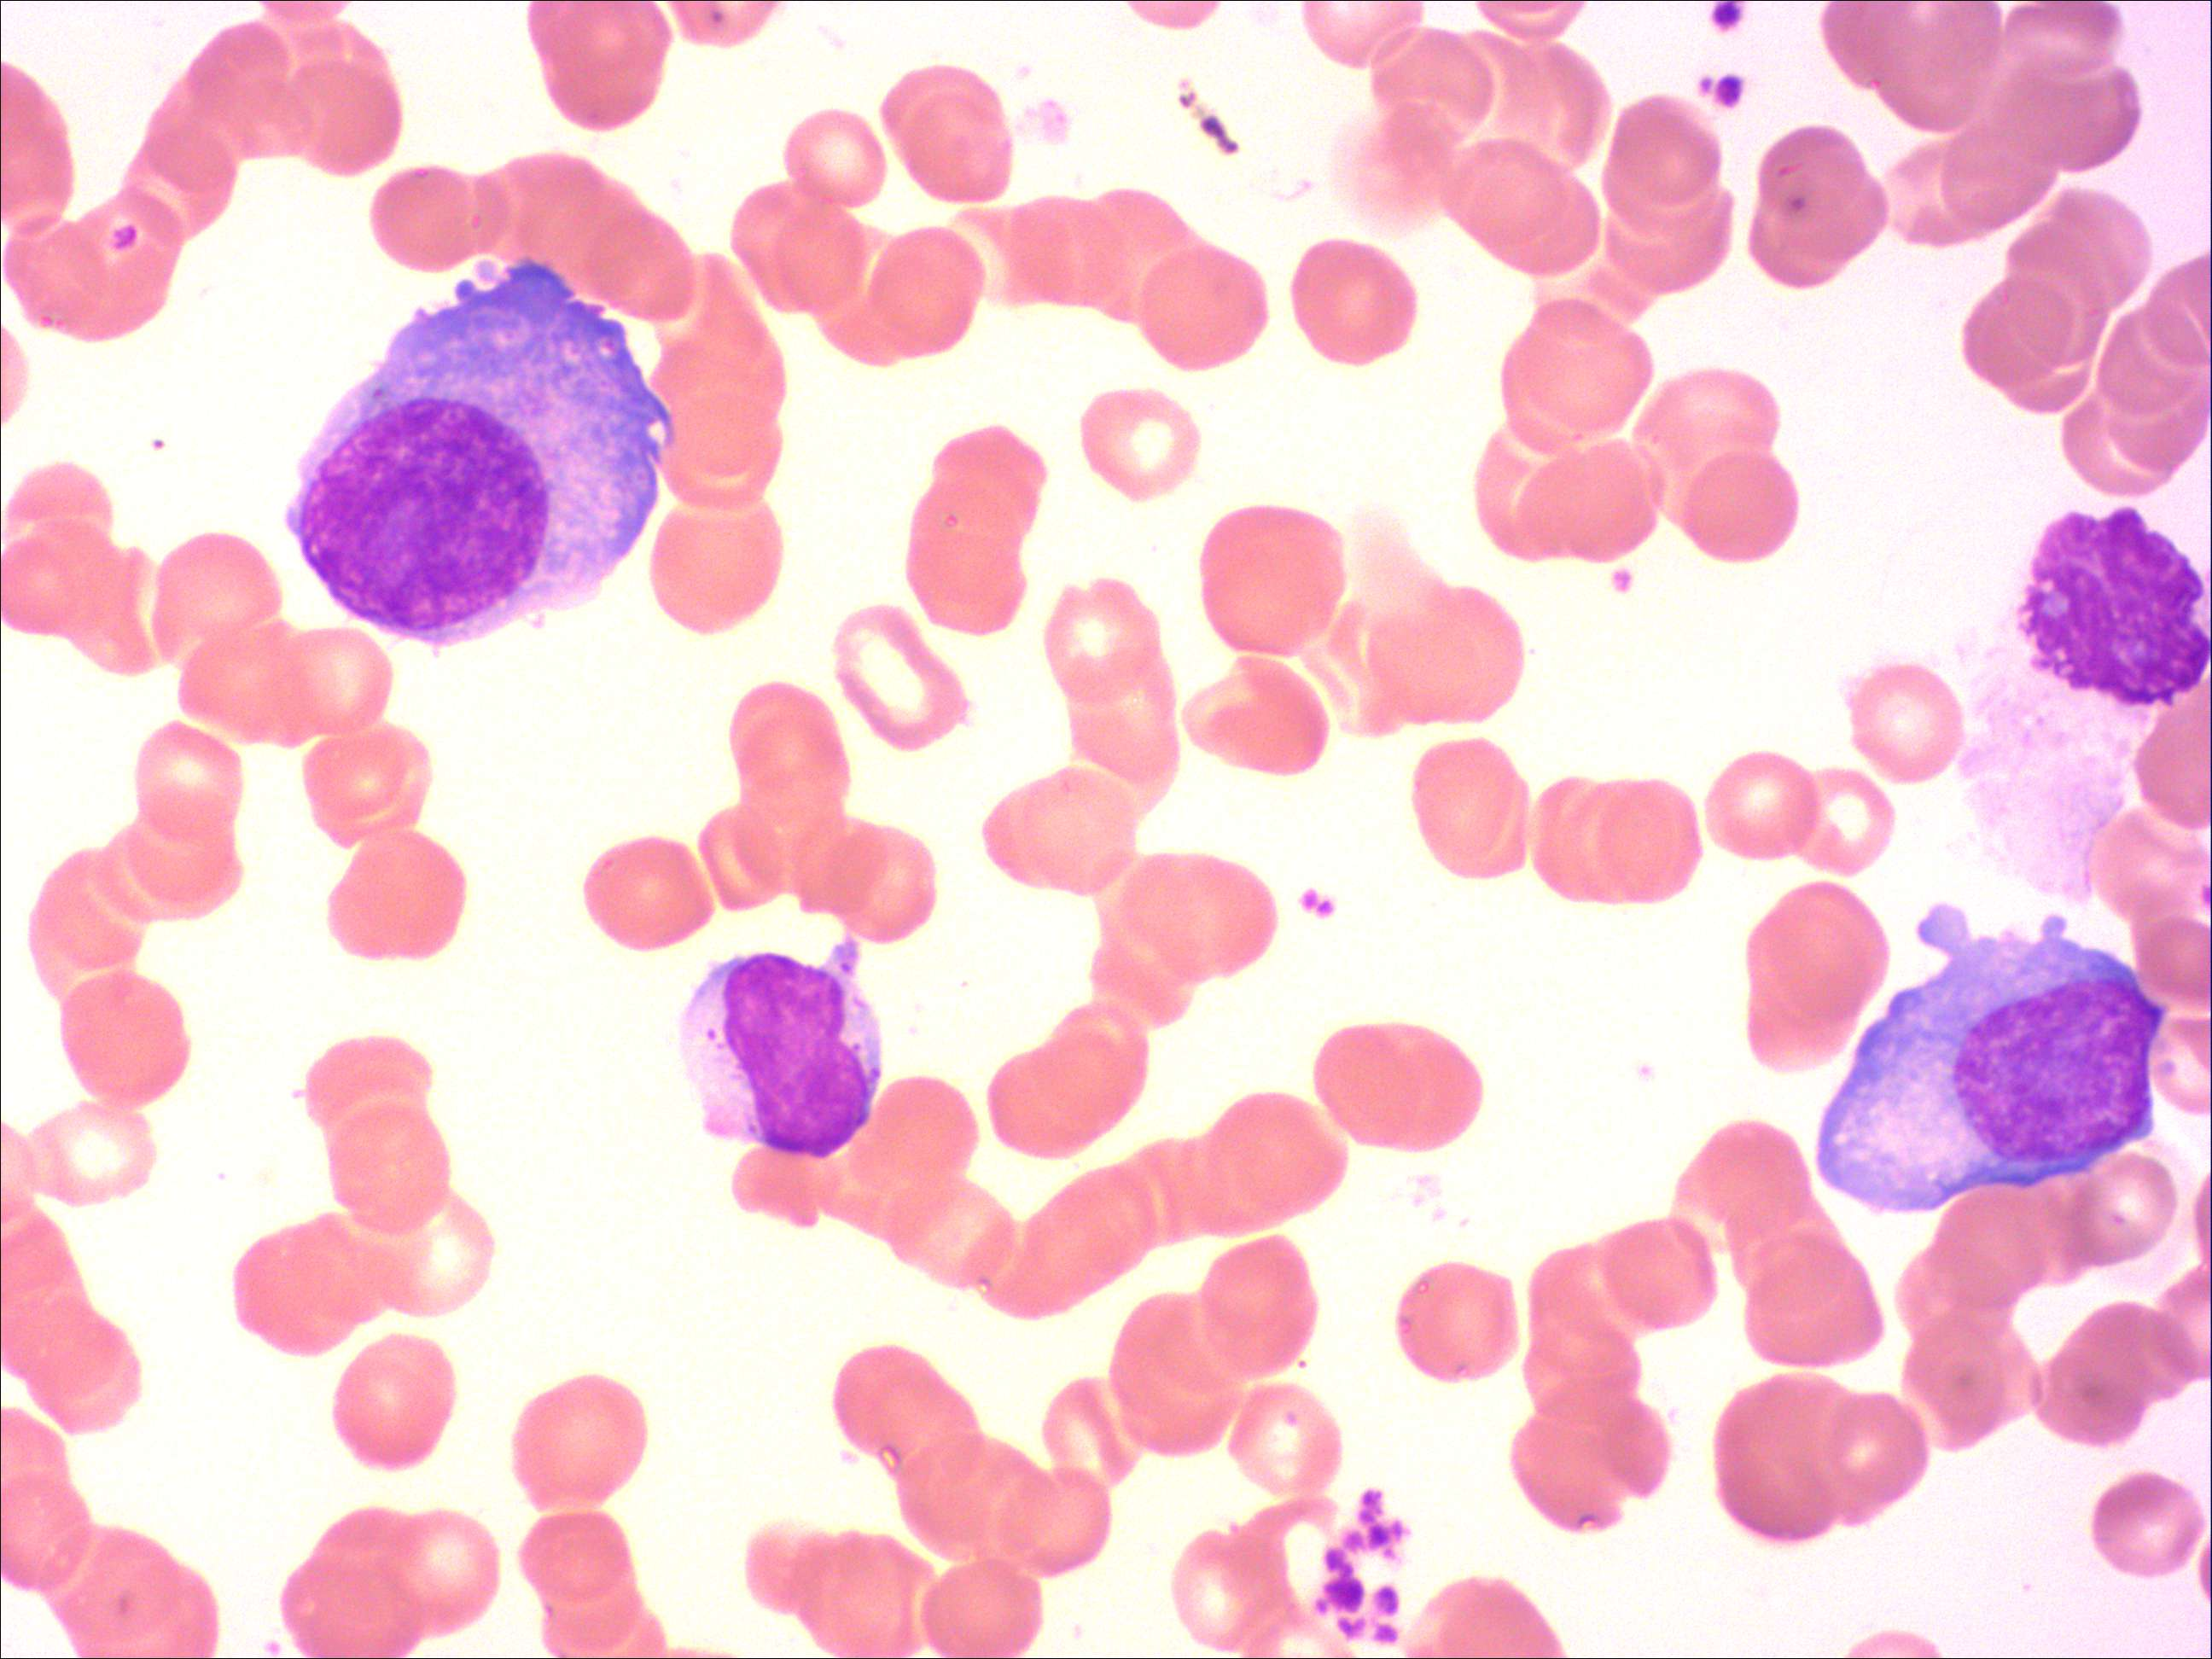32: (676, 929, 887, 1166)
51: (279, 251, 681, 657), (1810, 897, 2170, 1220)
x: (1946, 498, 2212, 911)
